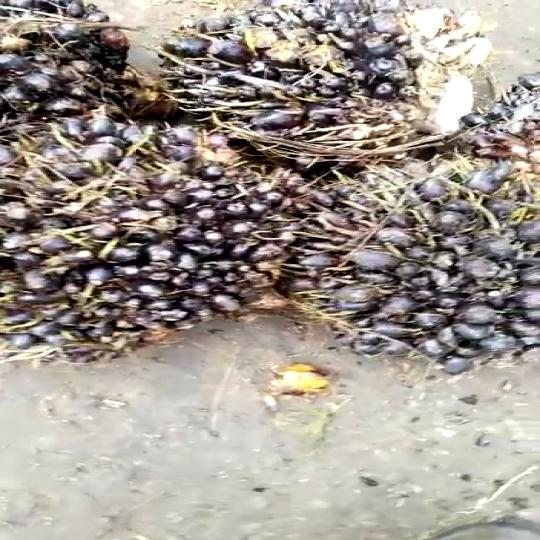mentah: (0, 101, 307, 361), (148, 0, 524, 160), (313, 157, 540, 365)
